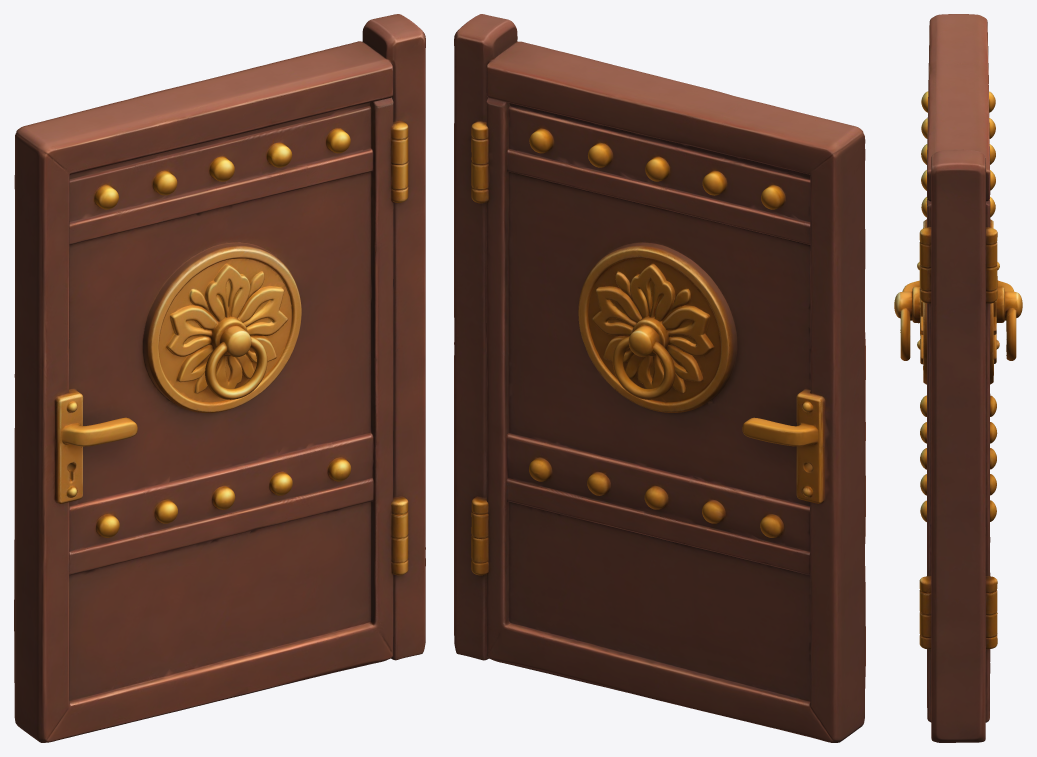
Rendered from outer-gate-right-door.glb.
3 renders of one model, left to right at view 1: azimuth 30°, elevation 25°; view 2: azimuth 150°, elevation 25°; view 3: azimuth 270°, elevation 25°, orthographic. The views are drawn at different scales.
Parts seen in each view (by area): view 1: tripo_node_25d82d9a-1e1d-4196-846f-70dec02796cf; view 2: tripo_node_25d82d9a-1e1d-4196-846f-70dec02796cf; view 3: tripo_node_25d82d9a-1e1d-4196-846f-70dec02796cf.
Boxes of the visible parts, bbox=[...] form: tripo_node_25d82d9a-1e1d-4196-846f-70dec02796cf: bbox=[14, 14, 425, 742]; tripo_node_25d82d9a-1e1d-4196-846f-70dec02796cf: bbox=[454, 14, 865, 742]; tripo_node_25d82d9a-1e1d-4196-846f-70dec02796cf: bbox=[894, 14, 1022, 742].
Bounding box in the file's own units: 0.6481 × 1 × 0.2002.
1 material, 1 textured.
